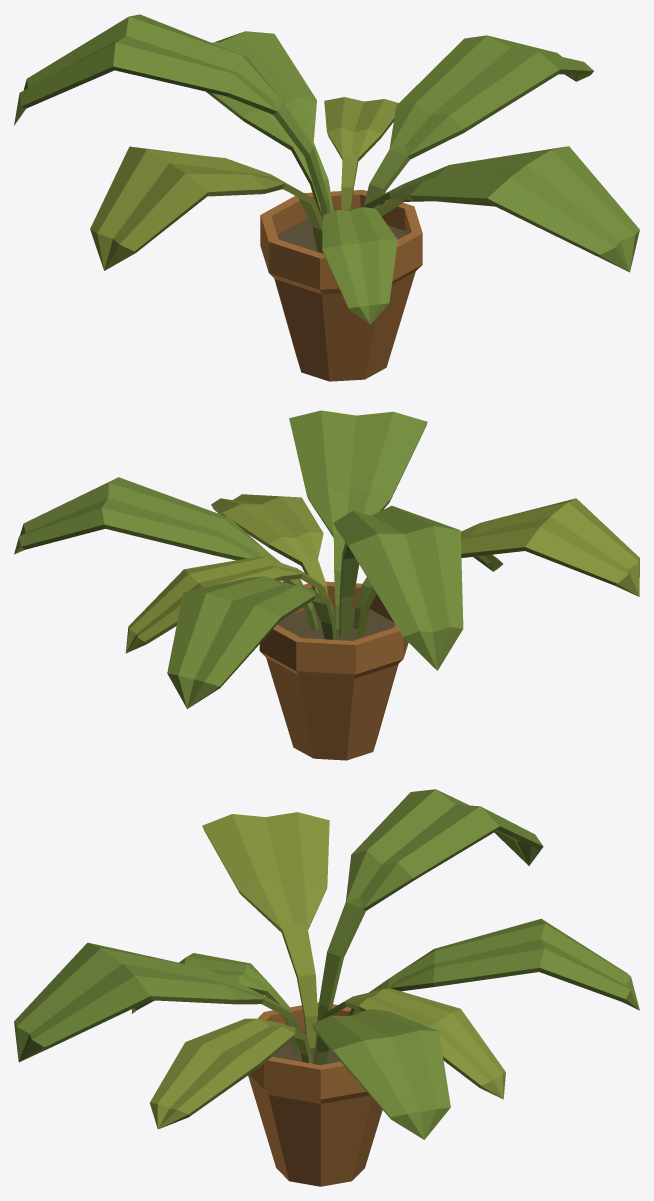
The model's file is Pot_10.fbx.
3 views of the same model, one above another, from view 1: azimuth 30°, elevation 25°; view 2: azimuth 150°, elevation 25°; view 3: azimuth 270°, elevation 25° (orthographic). The views are drawn at different scales.
Parts seen in each view (by area): view 1: Pot_10; view 2: Pot_10; view 3: Pot_10.
Part boxes in pixels (x1,y1,x2,y2): Pot_10: (14,14,639,381); Pot_10: (14,410,639,760); Pot_10: (14,789,639,1186).
Bounding box in the file's own units: 94.47 × 50.04 × 94.1.
